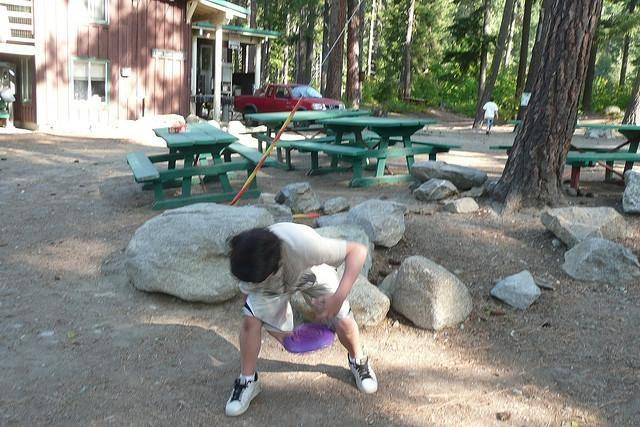truck: (232, 84, 346, 120)
